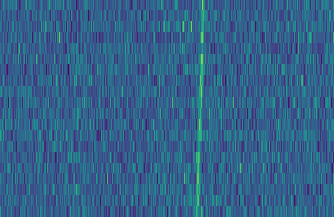signal: (192, 0, 208, 217)
